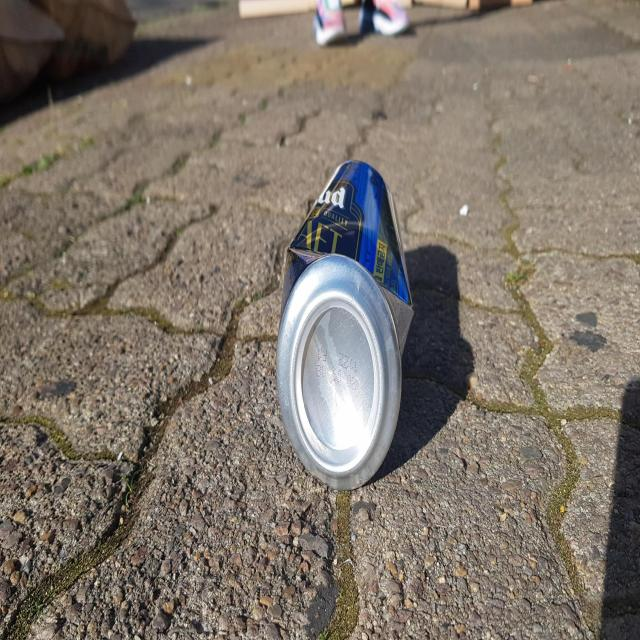can: (277, 159, 414, 488)
